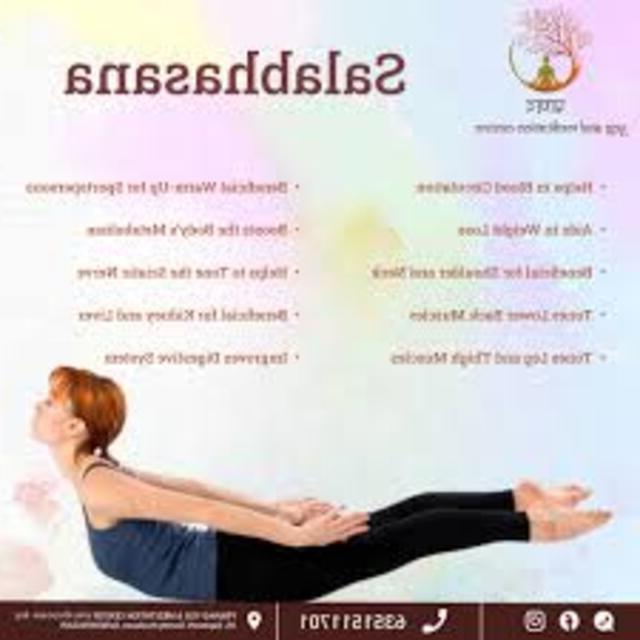Locust_Pose: (27, 368, 617, 602)
